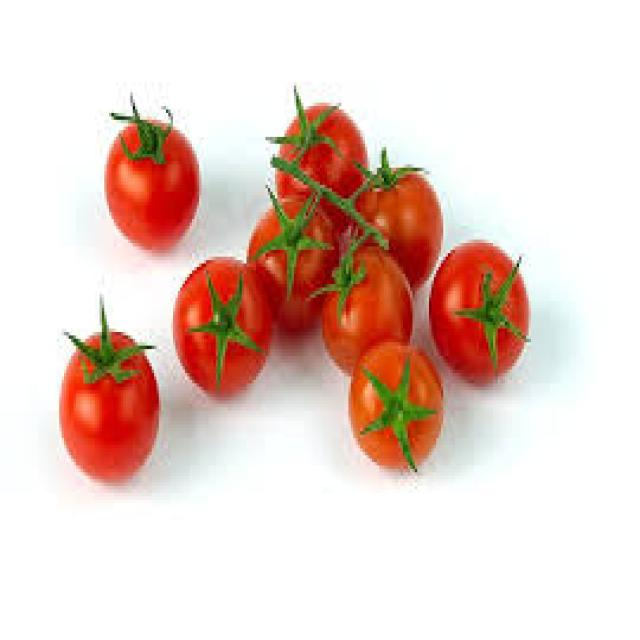Tomato: (43, 304, 193, 492), (152, 242, 270, 424), (334, 332, 455, 490), (441, 226, 538, 412), (100, 103, 213, 261), (250, 166, 326, 354), (314, 256, 423, 374), (273, 76, 356, 226), (354, 154, 438, 288)
